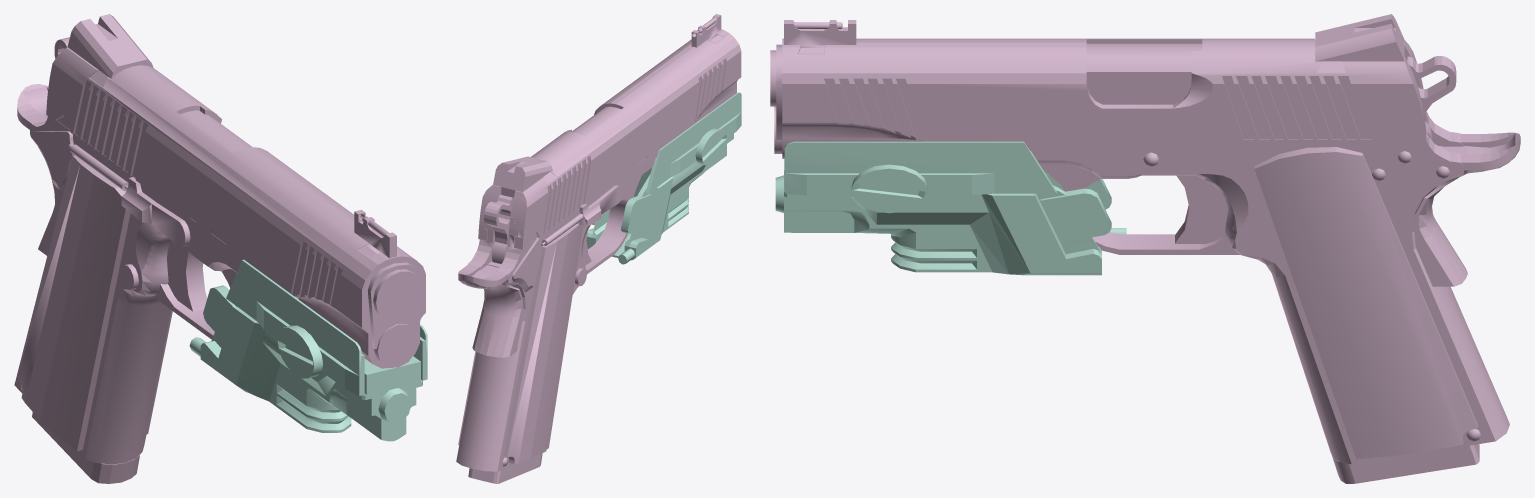
File: wber.fbx
3 views of the same model, side by side, from view 1: azimuth 30°, elevation 25°; view 2: azimuth 150°, elevation 25°; view 3: azimuth 270°, elevation 25° (orthographic). The views are drawn at different scales.
Parts seen in each view (by area): view 1: w_pist_elite_single; view 2: w_pist_elite_single; view 3: w_pist_elite_single.
Boxes of the visible parts, x1=… form: w_pist_elite_single: x1=14, y1=14, x2=427, y2=483; w_pist_elite_single: x1=456, y1=14, x2=741, y2=483; w_pist_elite_single: x1=770, y1=14, x2=1520, y2=483.
Bounding box in the file's own units: 157 × 722 × 1081.
